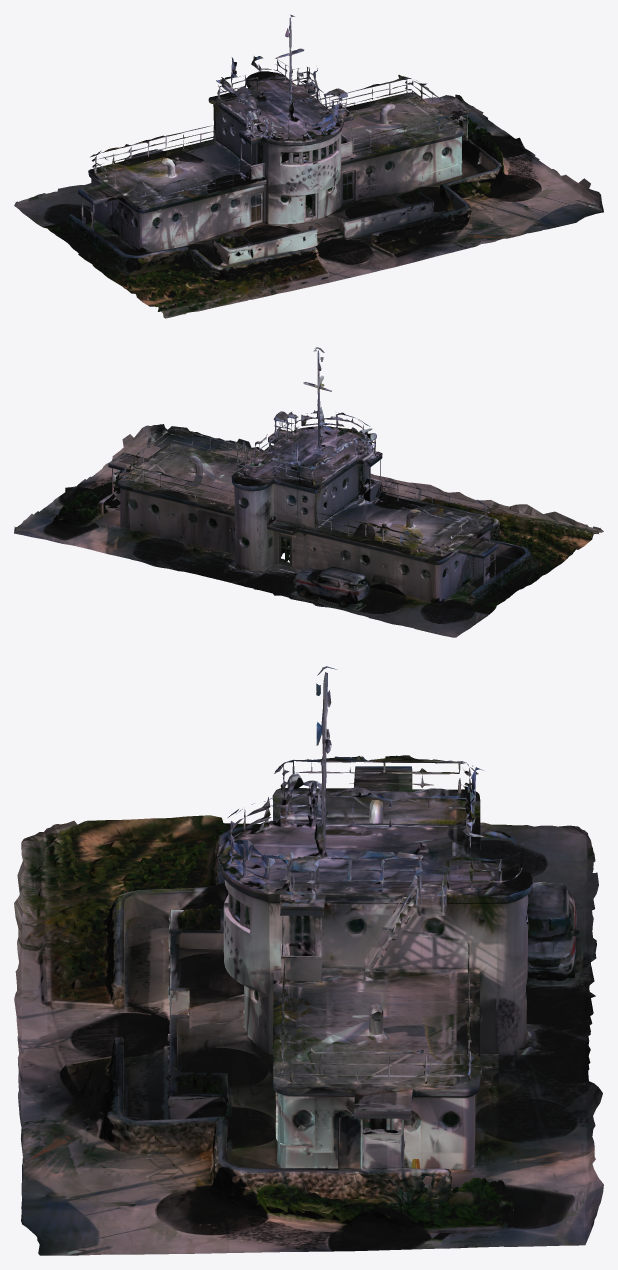
3 renders of one model, top to bottom at view 1: azimuth 30°, elevation 25°; view 2: azimuth 150°, elevation 25°; view 3: azimuth 270°, elevation 25°, orthographic. The views are drawn at different scales.
Size of the model in its own units: 32.28 by 13.31 by 19.11.
1 material, 1 textured.
